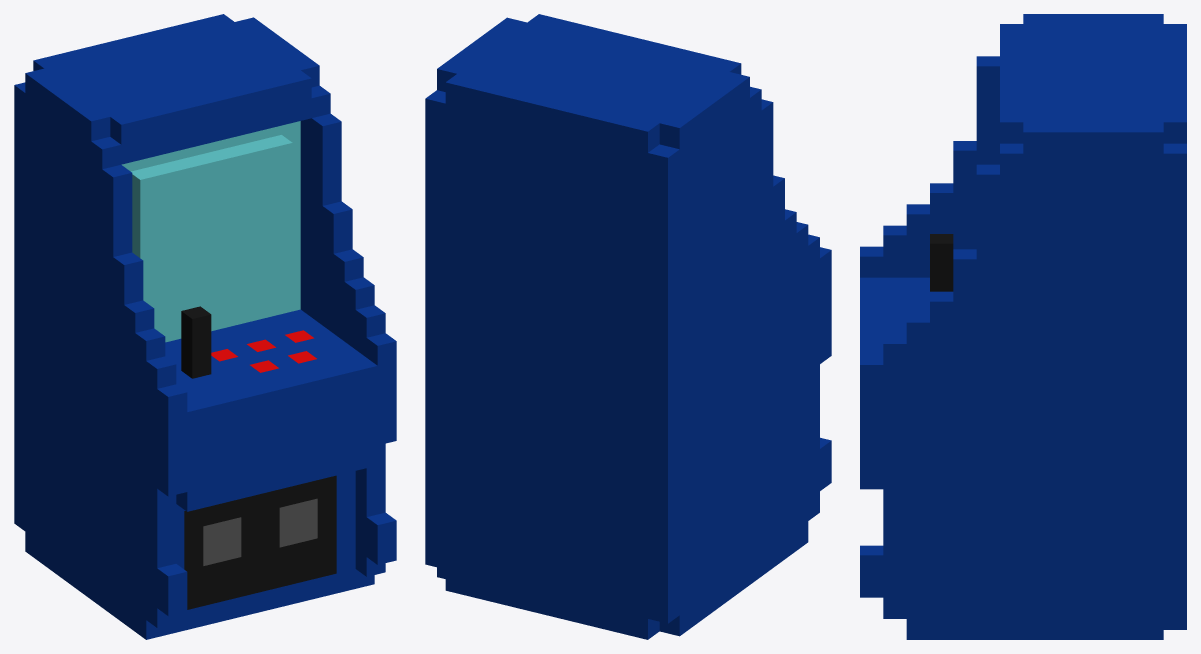
Rendered from arcade.obj.
The picture shows the model from 3 angles, left to right: view 1: azimuth 30°, elevation 25°; view 2: azimuth 150°, elevation 25°; view 3: azimuth 270°, elevation 25°; orthographic projection. The views are drawn at different scales.
Size of the model in its own units: 1.2 by 2.4 by 1.4.
